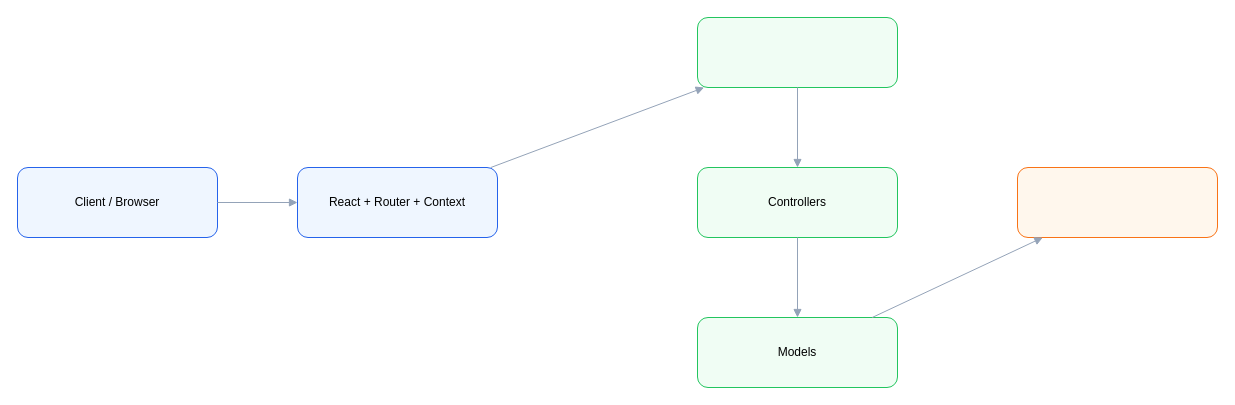
Image size: 1235x405. Some labels were removed from this diagram. The centre of each missing label's shape, as x and y in pixels:
"PostgreSQL" belongs at point (1117, 202).
"Routes" belongs at point (797, 52).
